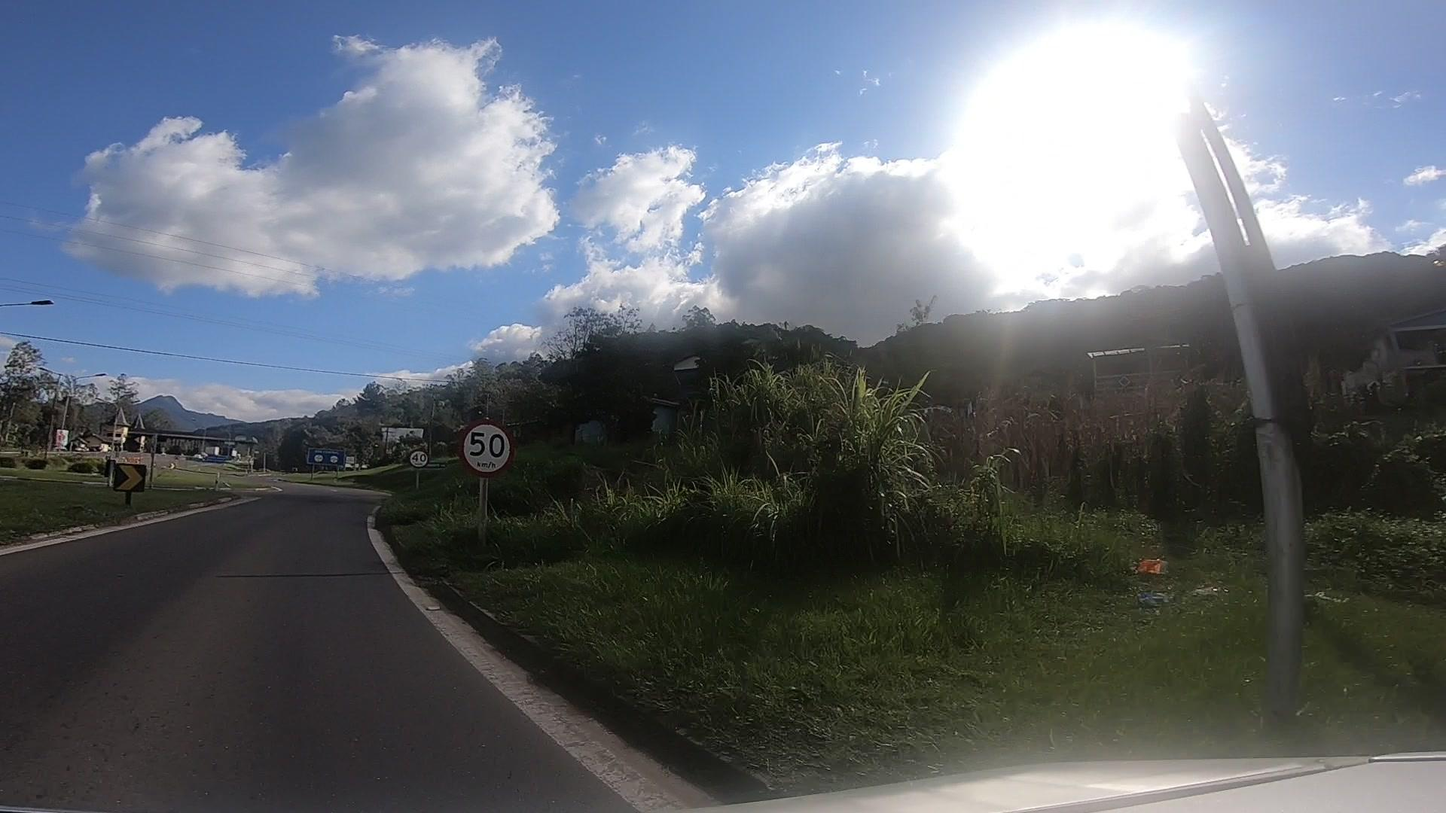R-19: (459, 420, 516, 477), (405, 448, 432, 468)
